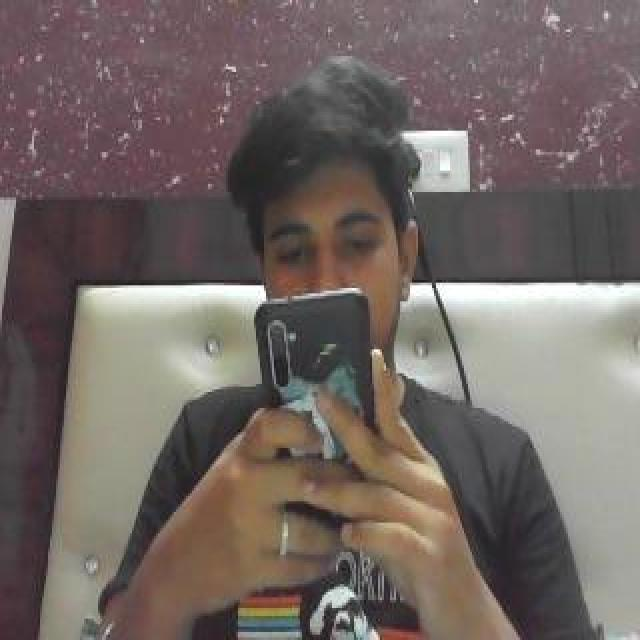phone: (253, 289, 379, 486)
